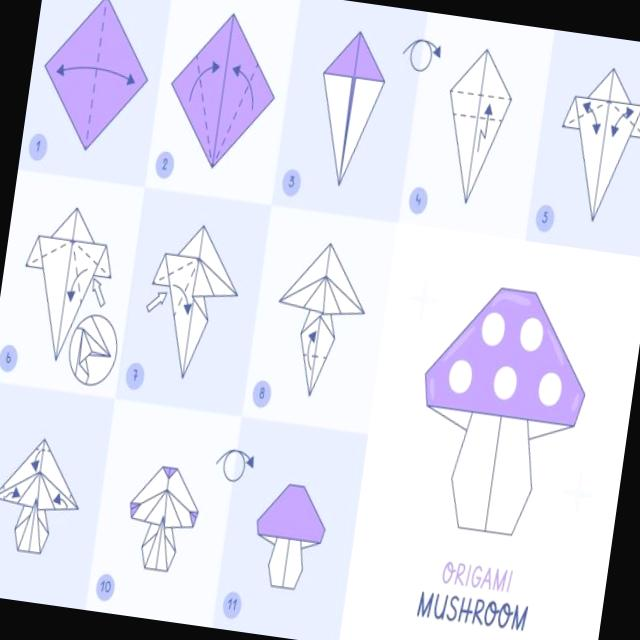arrow: (57, 64, 134, 85), (216, 449, 254, 483), (403, 39, 441, 72), (189, 62, 219, 101), (233, 65, 254, 109), (477, 105, 492, 151), (67, 269, 88, 301), (611, 108, 633, 136), (172, 285, 192, 314), (583, 102, 600, 134), (147, 292, 166, 312), (92, 278, 105, 307), (307, 331, 316, 369), (31, 450, 42, 471), (54, 493, 67, 508), (5, 487, 20, 500), (430, 44, 441, 58), (246, 456, 254, 468), (31, 460, 38, 471)
fold-line: (212, 61, 261, 166), (208, 11, 238, 171), (52, 203, 80, 367), (463, 46, 490, 208), (590, 65, 617, 226), (83, 0, 110, 152), (193, 52, 217, 165), (25, 238, 75, 269), (174, 259, 201, 316), (74, 240, 111, 280), (562, 101, 611, 129), (153, 257, 199, 285), (446, 86, 514, 102), (609, 101, 639, 135), (446, 110, 504, 124), (70, 240, 82, 305), (300, 351, 330, 362), (0, 480, 9, 509), (33, 445, 53, 457), (61, 493, 74, 511)
